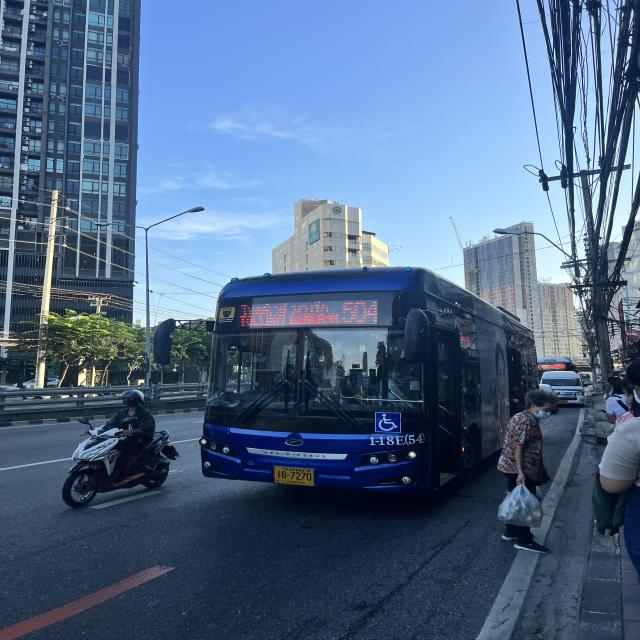Bus Line Number: (340, 297, 384, 325)
Bus Side Number: (364, 432, 425, 446)
Destination Sign: (238, 300, 339, 328)
TSB-Bus: (199, 269, 541, 499)
